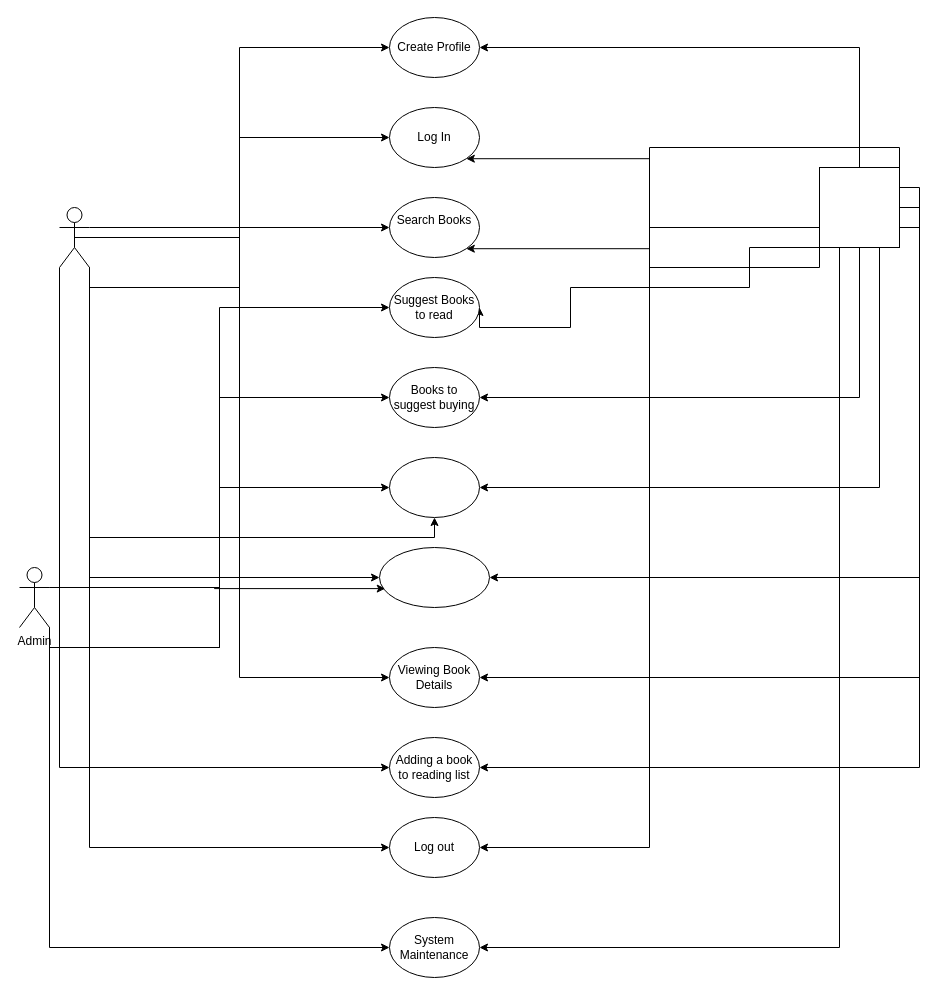
Image size: 945x995. Some labels were removed from this diagram. Here are the shapes that lost their labels. From the top down, the centre of each, then its label:
At [859,207]: "System Server".
At [74,237]: "User".
At [434,487]: "Catagorize according to rating".
At [434,577]: "Scholarly Recommendations".
